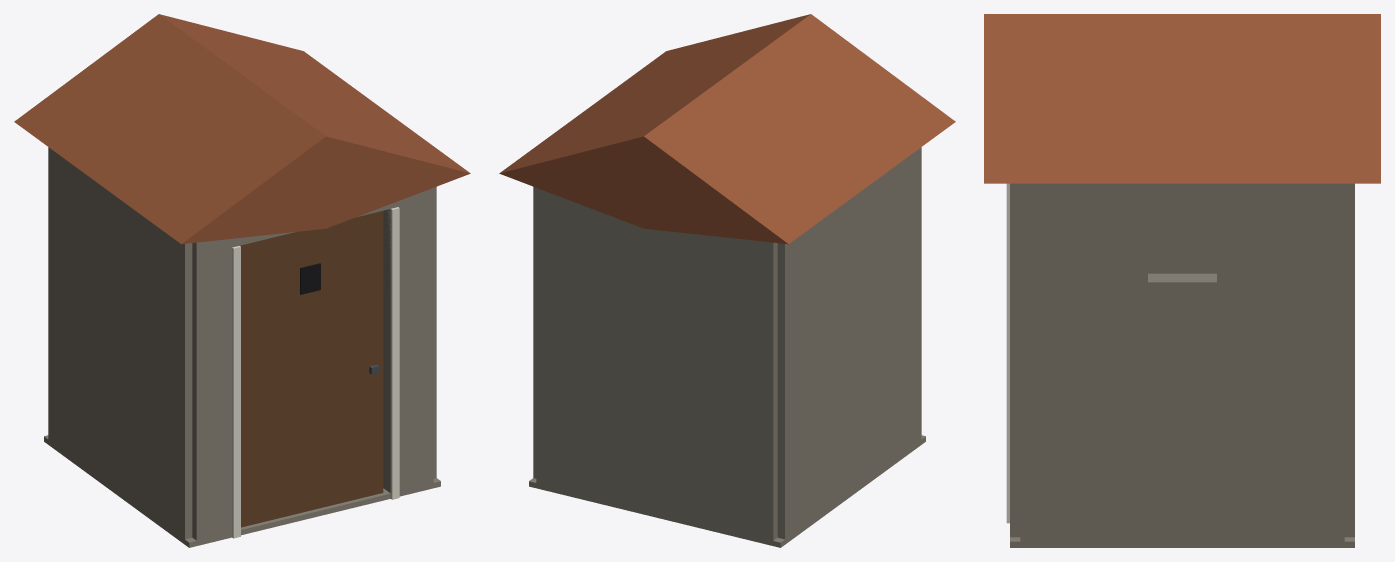
The model's file is FM_Outhouse_01.glb.
3 renders of one model, left to right at view 1: azimuth 30°, elevation 25°; view 2: azimuth 150°, elevation 25°; view 3: azimuth 270°, elevation 25°, orthographic. The views are drawn at different scales.
Visible parts, largest first — view 1: FM_Outhouse_01, Door; view 2: FM_Outhouse_01; view 3: FM_Outhouse_01.
Boxes of the visible parts, <box> form: FM_Outhouse_01: <box>14,14,470,547</box>; Door: <box>240,211,383,527</box>; FM_Outhouse_01: <box>499,14,955,547</box>; FM_Outhouse_01: <box>984,14,1380,547</box>.
Bounding box in the file's own units: 2.3 × 2.95 × 2.3.
1 material, 1 textured.
